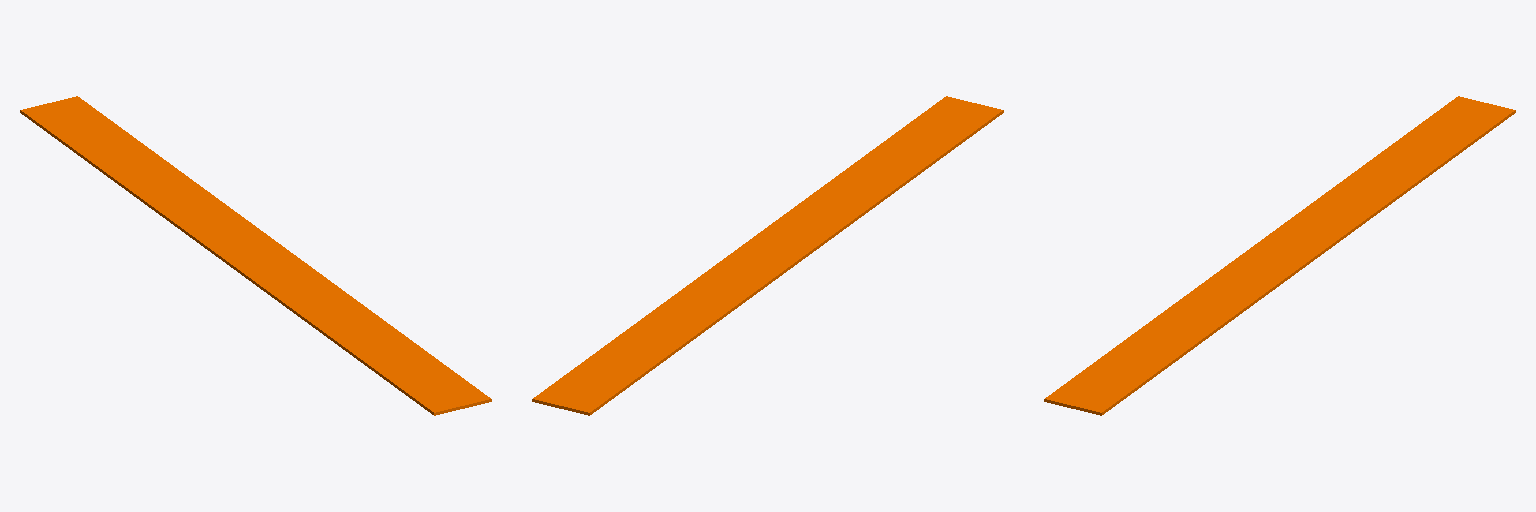
robot.urdf — ypaddle2D:
<robot name="ypaddle2D">
    
  <link name="base_link">
    <inertial>
      <origin rpy="0 0 0" xyz="0 0 0"/>
       <mass value="0"/>
       <inertia ixx="0" ixy="0" ixz="0" iyy="0" iyz="0" izz="0"/>
    </inertial>
  </link>

  <link name="x_link">
    <inertial>
      <origin rpy="0 0 0" xyz="0 0 0"/>
       <mass value="0.0001"/>
       <inertia ixx="0.0001" ixy="0" ixz="0" iyy="0.0001" iyz="0" izz="0.0001"/>
    </inertial>
  </link>


  <link name="y_link">
    <inertial>
      <origin rpy="0 0 0" xyz="0 0 0"/>
       <mass value="0.0001"/>
       <inertia ixx="0.0001" ixy="0" ixz="0" iyy="0.0001" iyz="0" izz="0.0001"/>
    </inertial>
  </link>


  <link name="theta_link">
    <inertial>
      <origin rpy="0 0 0" xyz="0 0 0"/>
       <mass value="1.0"/>
       <inertia ixx="0.0001" ixy="0" ixz="0" iyy="0.0001" iyz="0" izz="0.0001"/>
    </inertial>

    <visual>
      <origin rpy="0 0 0" xyz="0 0 0"/>
      <geometry>
        <box size="4.0 50 0.2" />      
      </geometry>
      <material name="white">
        <color rgba="1 0.5 0 1"/>
      </material>
    </visual>
    
    <collision>
      <origin rpy="0 0 0" xyz="0 0 0"/>
      <geometry>
        <box size="4.0 50 0.2" />
      </geometry>
    </collision>
  </link>

  <joint name = "x_prismatic" type = "prismatic">
    <origin xyz = "0.0 0.0 0.0" rpy = "0 0 0"/> 
    <parent link = "base_link"/>
    <child link= "x_link"/>
    <axis xyz = "1 0 0"/>
    <limit effort="1.0" lower="-10000" upper="10000" velocity="10000" />
    <dynamics damping = "0.0" friction="0.0" />
  </joint>

  <joint name = "y_prismatic" type = "prismatic">
    <origin xyz = "0.0 0.0 0.0" rpy = "0 0 0"/> 
    <parent link = "x_link" />
    <child link= "y_link"/>
    <axis xyz = "0 1 0" />
    <limit effort="1.0" lower="-10000" upper="10000" velocity="10000" />
    <dynamics damping = "0.0" friction="0.0" />
  </joint>

   <joint name = "theta_revolute" type = "revolute">
    <origin xyz = "0.0 0.0 0.0" rpy = "0 0 0"/> 
    <parent link = "y_link" />
    <child link= "theta_link"/>
    <axis xyz = "0 0 1" />
    <limit effort="1.0" lower="-10000" upper="10000" velocity="10000" />
    <dynamics damping = "0.0" friction="0.0" />
  </joint>

    
</robot>

--- Facts derived from the render (not from the file) ---
3 views of the same robot in one strip: view 1: azimuth 30°, elevation 25°; view 2: azimuth 150°, elevation 25°; view 3: azimuth 330°, elevation 25° (orthographic).
Model ypaddle2D with 4 links and 3 joints (1 revolute, 2 prismatic), rooted at base_link, posed every joint at zero.
Visible links, largest first — view 1: theta_link; view 2: theta_link; view 3: theta_link.
Boxes of the visible links, x1,y1,x2,y2 form: theta_link: (20,96,491,415); theta_link: (532,96,1003,415); theta_link: (1044,96,1515,415).
Size in the robot's own frame: 4 by 50 by 0.2 metres.
Geometry: primitives only (box / cylinder / sphere), no mesh files.